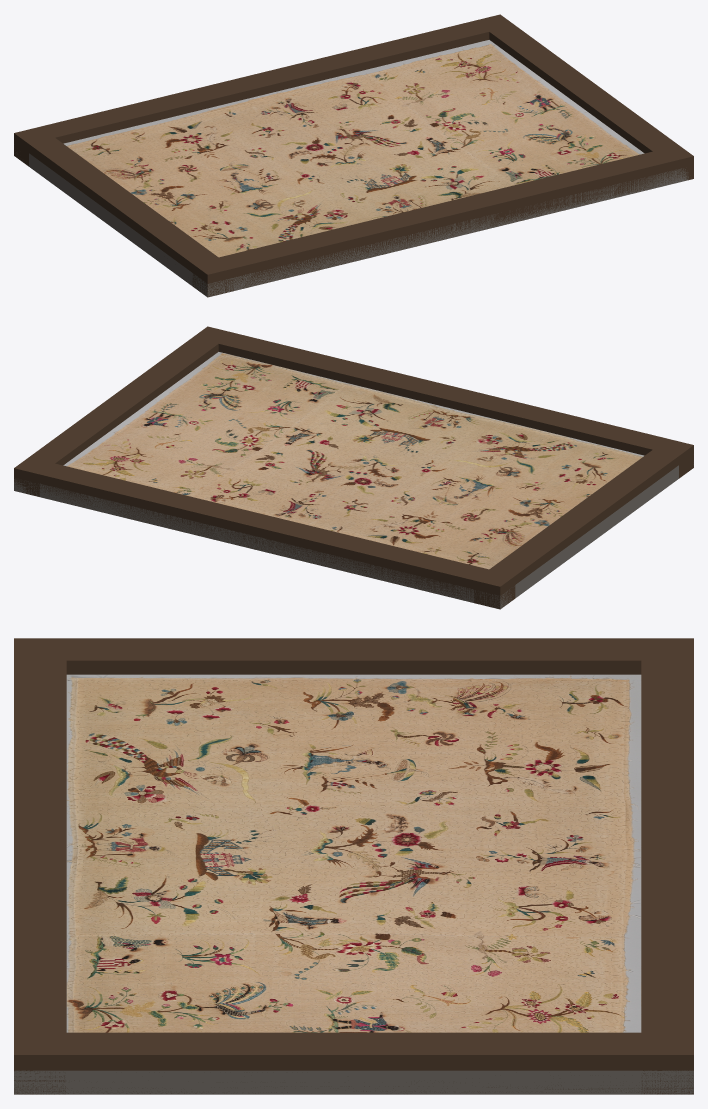
The model's file is framed_artwork.glb.
3 renders of one model, top to bottom at view 1: azimuth 30°, elevation 25°; view 2: azimuth 150°, elevation 25°; view 3: azimuth 270°, elevation 25°, orthographic. The views are drawn at different scales.
Parts seen in each view (by area): view 1: Artwork_Image_Front, Frame_Bottom, Frame_Top, Back_Board, Frame_Right, Frame_Left; view 2: Artwork_Image_Front, Frame_Top, Frame_Bottom, Back_Board, Frame_Left, Frame_Right; view 3: Artwork_Image_Front, Frame_Right, Frame_Bottom, Frame_Left, Frame_Top, Back_Board.
Part boxes in pixels (bbox=[...]): Artwork_Image_Front: bbox=[63, 40, 644, 257]; Frame_Bottom: bbox=[192, 146, 689, 297]; Frame_Top: bbox=[14, 15, 514, 166]; Back_Board: bbox=[14, 144, 689, 297]; Frame_Right: bbox=[475, 14, 693, 180]; Frame_Left: bbox=[28, 127, 233, 296]; Artwork_Image_Front: bbox=[63, 352, 644, 569]; Frame_Top: bbox=[14, 458, 515, 608]; Frame_Bottom: bbox=[193, 326, 693, 478]; Back_Board: bbox=[14, 462, 693, 609]; Frame_Left: bbox=[474, 439, 678, 609]; Frame_Right: bbox=[14, 328, 228, 496]; Artwork_Image_Front: bbox=[66, 674, 641, 1032]; Frame_Right: bbox=[14, 1032, 693, 1093]; Frame_Bottom: bbox=[14, 638, 66, 1094]; Frame_Left: bbox=[14, 638, 693, 674]; Frame_Top: bbox=[641, 638, 693, 1094]; Back_Board: bbox=[14, 1070, 693, 1094].
Size of the model in its own units: 2.24 by 0.1 by 1.55.
3 materials, 1 textured.
